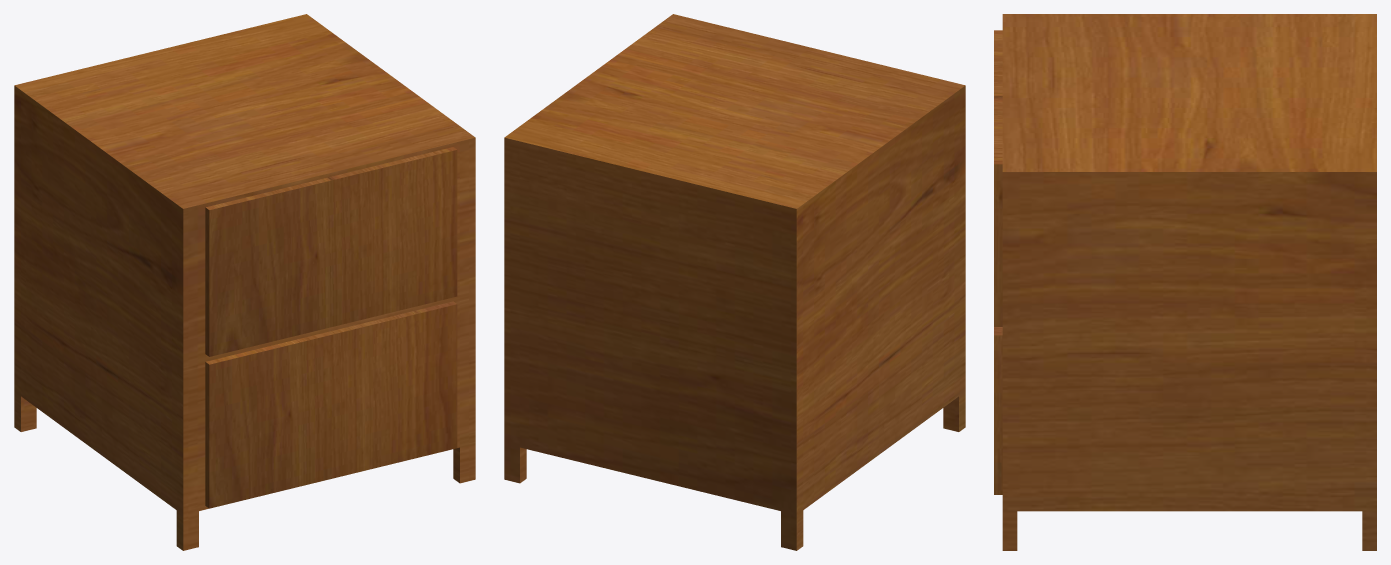
The model's file is smallTable3.fbx.
3 views of the same model, side by side, from view 1: azimuth 30°, elevation 25°; view 2: azimuth 150°, elevation 25°; view 3: azimuth 270°, elevation 25° (orthographic). The views are drawn at different scales.
Visible parts, largest first — view 1: polySurface1, polySurface5, polySurface4; view 2: polySurface1; view 3: polySurface1, polySurface5, polySurface4.
Boxes of the visible parts, x1,y1,x2,y2 form: polySurface1: (14, 14, 475, 550); polySurface5: (205, 147, 457, 356); polySurface4: (205, 301, 457, 508); polySurface1: (504, 14, 965, 550); polySurface1: (1002, 14, 1376, 550); polySurface5: (994, 30, 1002, 326); polySurface4: (994, 327, 1002, 494).
Bounding box in the file's own units: 9.2 × 10.28 × 9.41.
Materials: 1 (1 with a texture image).
